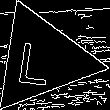L_N: (22, 32, 63, 87)
